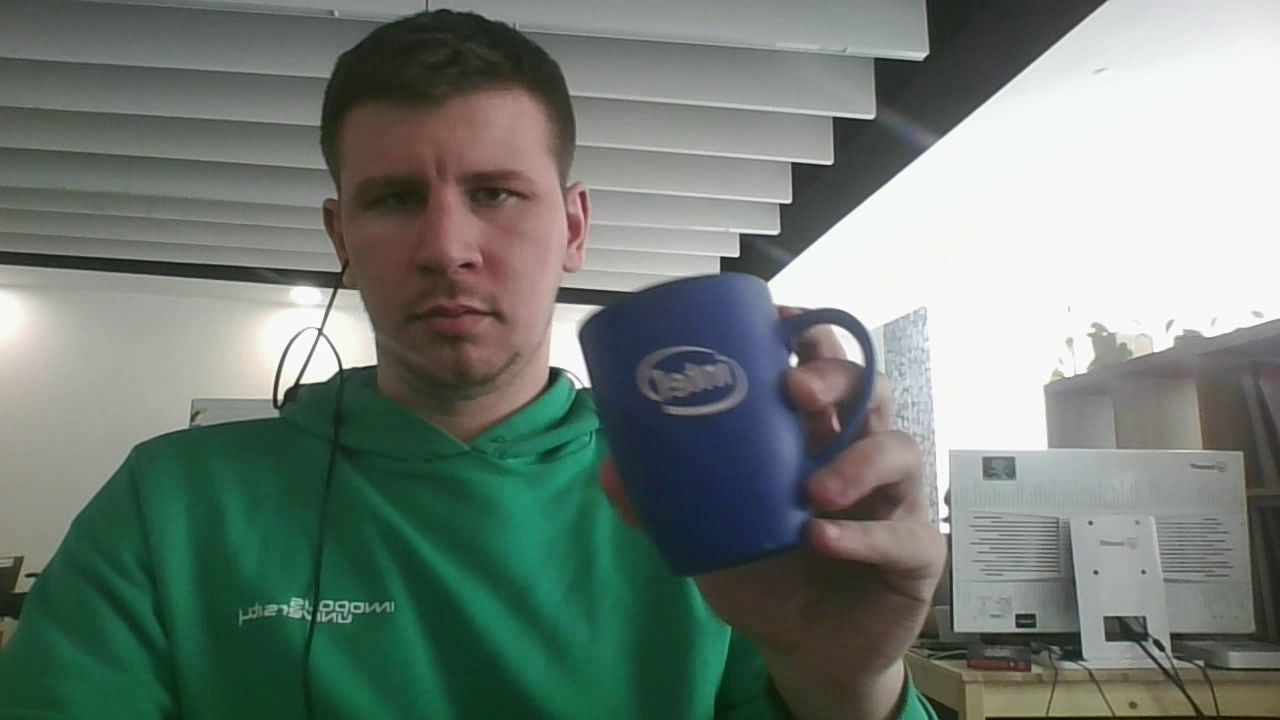cup: (576, 268, 877, 576)
